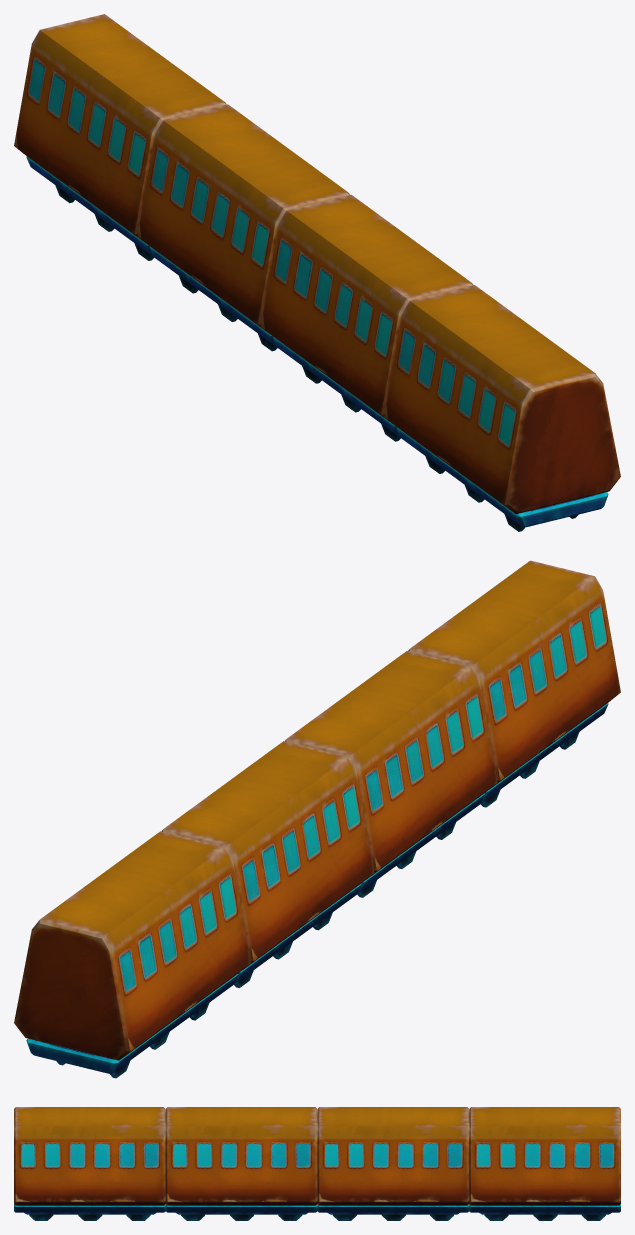
File: Train.fbx
The picture shows the model from 3 angles, top to bottom: view 1: azimuth 30°, elevation 25°; view 2: azimuth 150°, elevation 25°; view 3: azimuth 270°, elevation 25°; orthographic projection. The views are drawn at different scales.
Visible parts, largest first — view 1: train.008; view 2: train.008; view 3: train.008.
Part boxes in pixels (<box>): train.008: <box>14,14,620,531</box>; train.008: <box>14,560,620,1078</box>; train.008: <box>14,1107,620,1220</box>.
Size of the model in its own units: 1078 by 1376 by 7912.
1 material, 1 textured.
